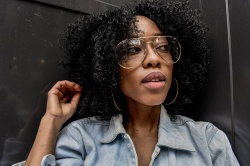female: (87, 6, 197, 114)
